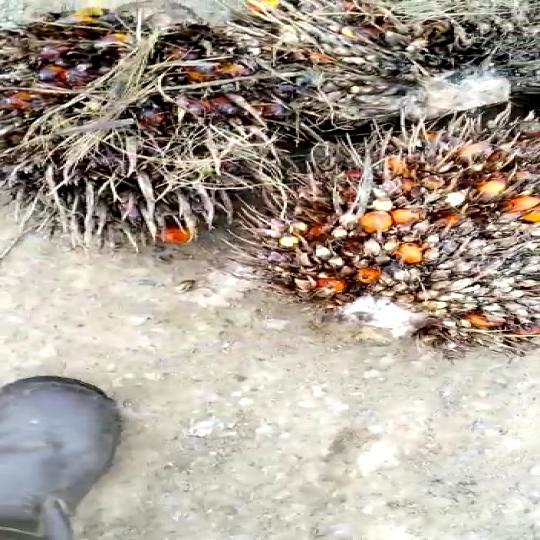terlalu masak: (250, 95, 540, 346), (0, 14, 282, 231)
